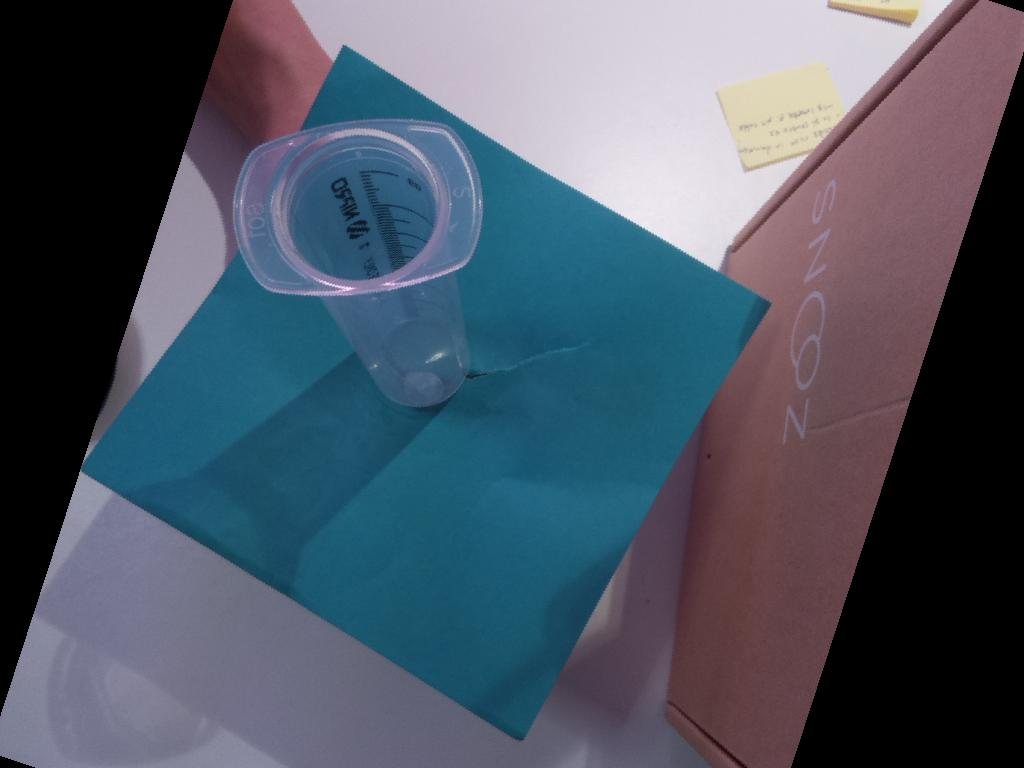clean: (232, 117, 486, 299)
